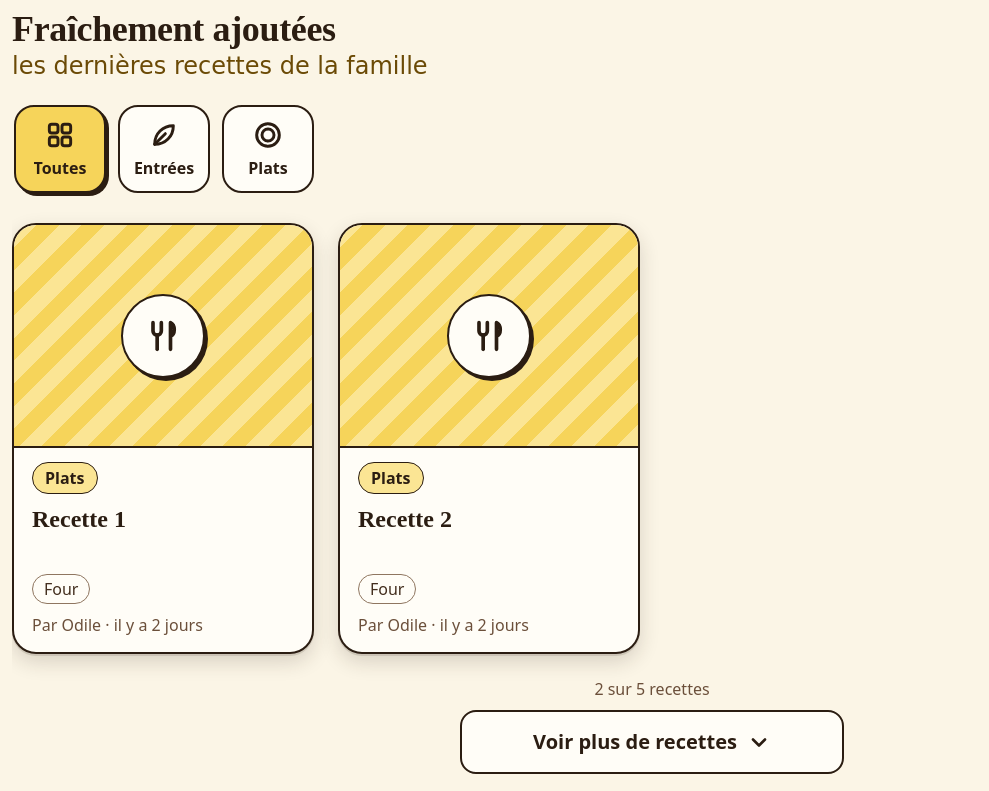
Test case: HomeScreen › « Voir plus de recettes » › lists a recipe once when a new one pushed it onto the next page
Click the button "Voir plus de recettes". click: {"x": 652, "y": 742}
box: [460,710,844,774]
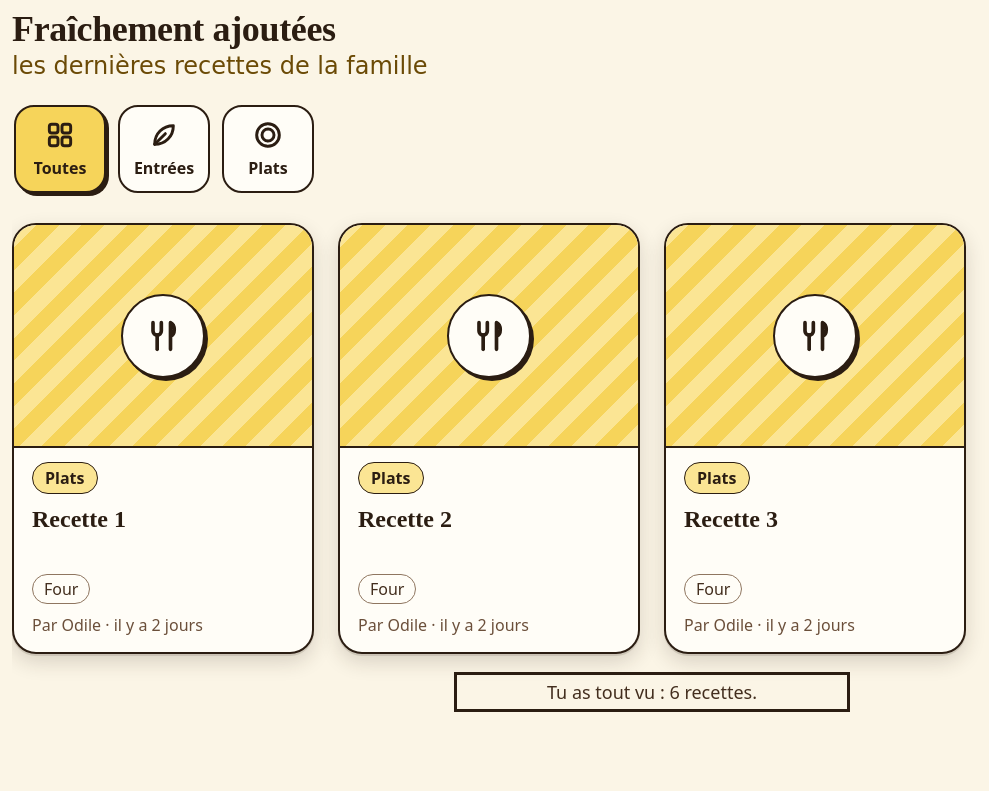
Expected: the link "Recette 3" is shown, [664,223,966,654]
Expected: the number of links "Recette 2" is 1, [338,223,640,654]
